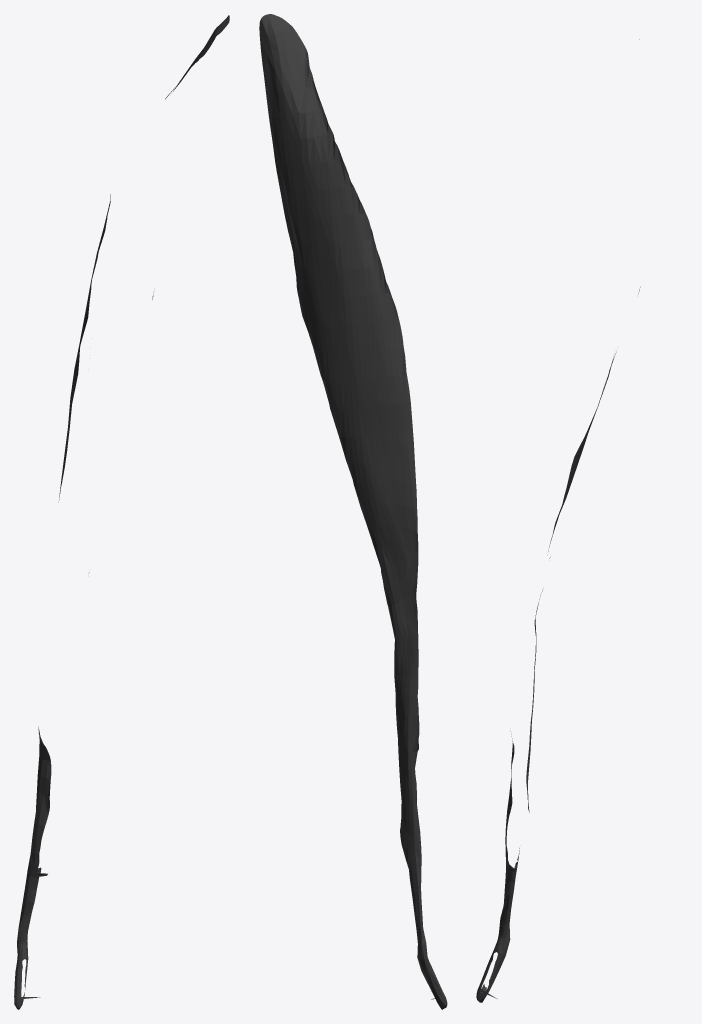
Rendered from FCR.glb.
The picture shows the model from 3 angles, left to right: view 1: azimuth 30°, elevation 25°; view 2: azimuth 150°, elevation 25°; view 3: azimuth 330°, elevation 25°; orthographic projection. The views are drawn at different scales.
Parts seen in each view (by area): view 1: FCR; view 2: FCR; view 3: FCR.
Part boxes in pixels (left/top/right/bottom): FCR: left=14, top=15, right=229, bottom=1009; FCR: left=259, top=14, right=447, bottom=1009; FCR: left=476, top=39, right=640, bottom=1002.
Size of the model in its own units: 0.0608 by 0.2739 by 0.0171.
1 material, 1 textured.
